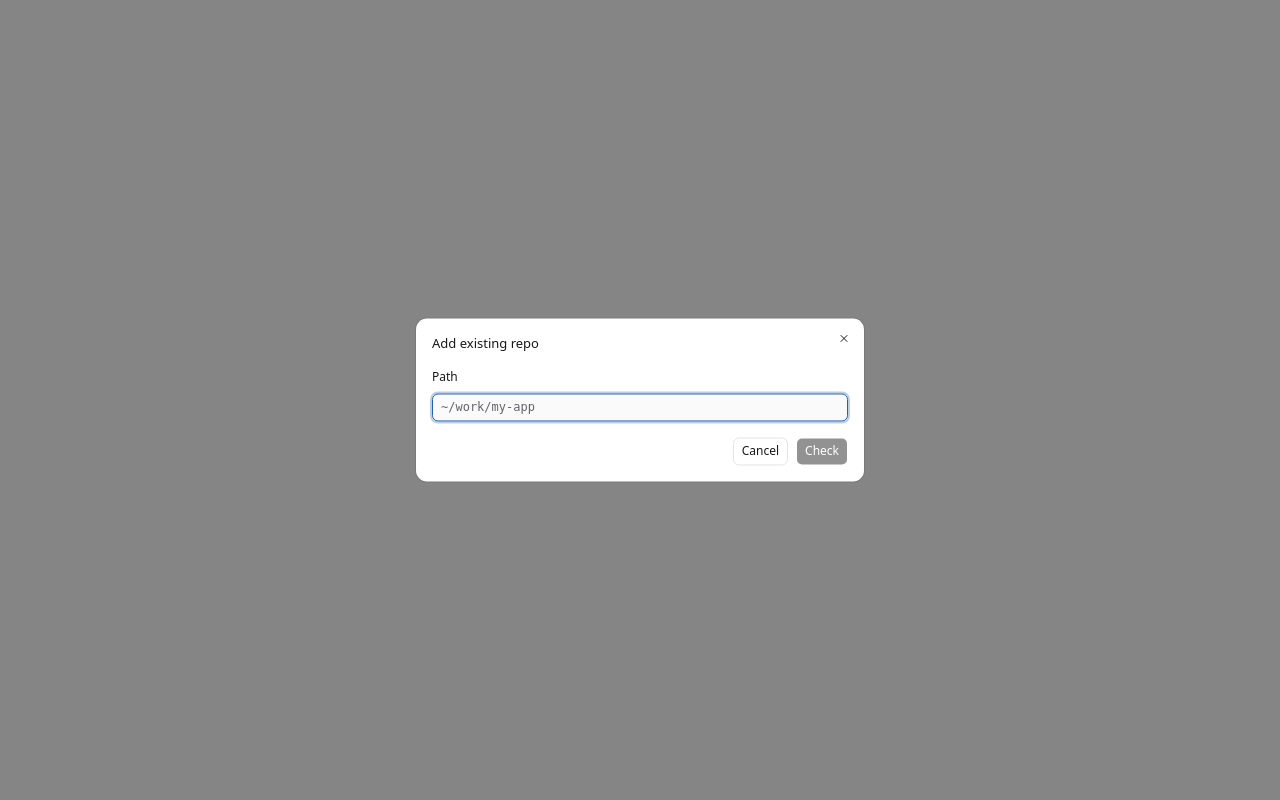
Test: AddExistingDialog › renders owner/name as plain text, not markup
Step 1. Type "~/x" into the field labelled "Path" → (640, 408), box [432,394,848,422]
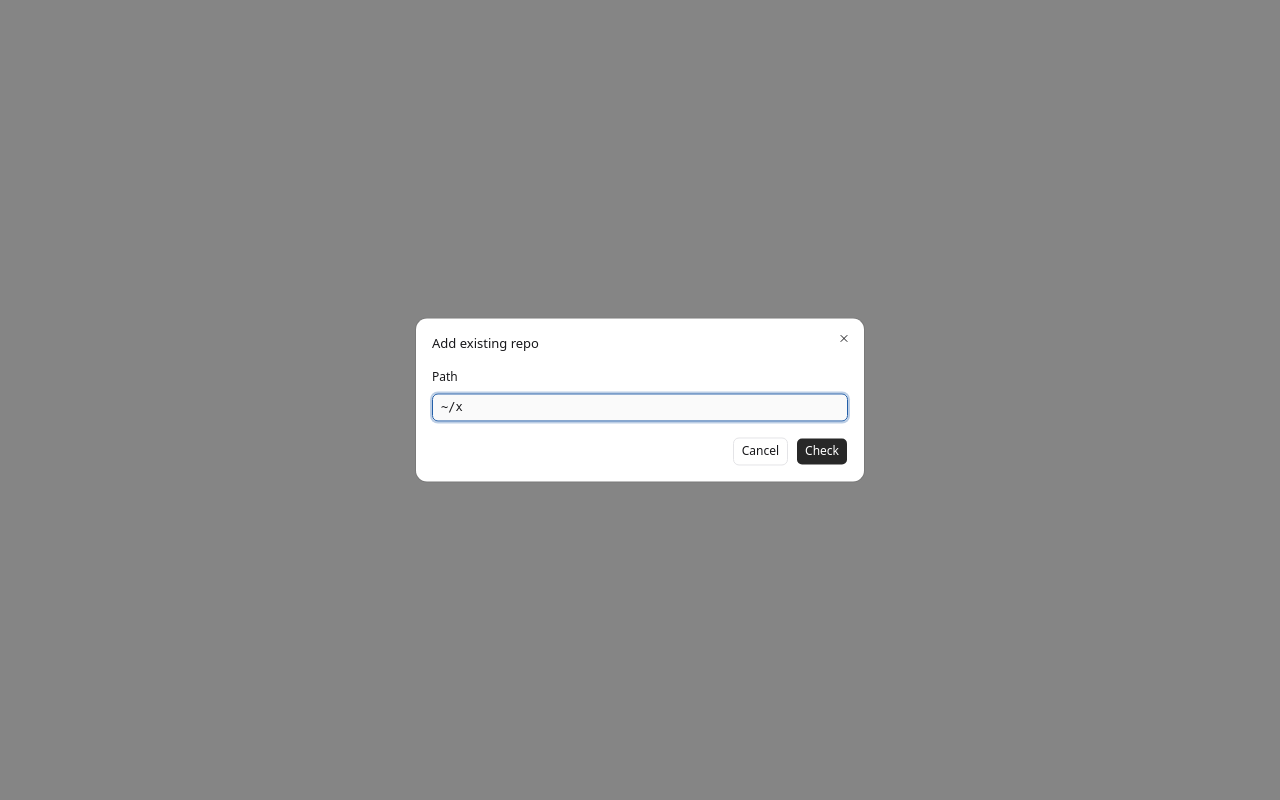
Step 2. Click the button "Check" → (822, 452), box [796,438,848,466]
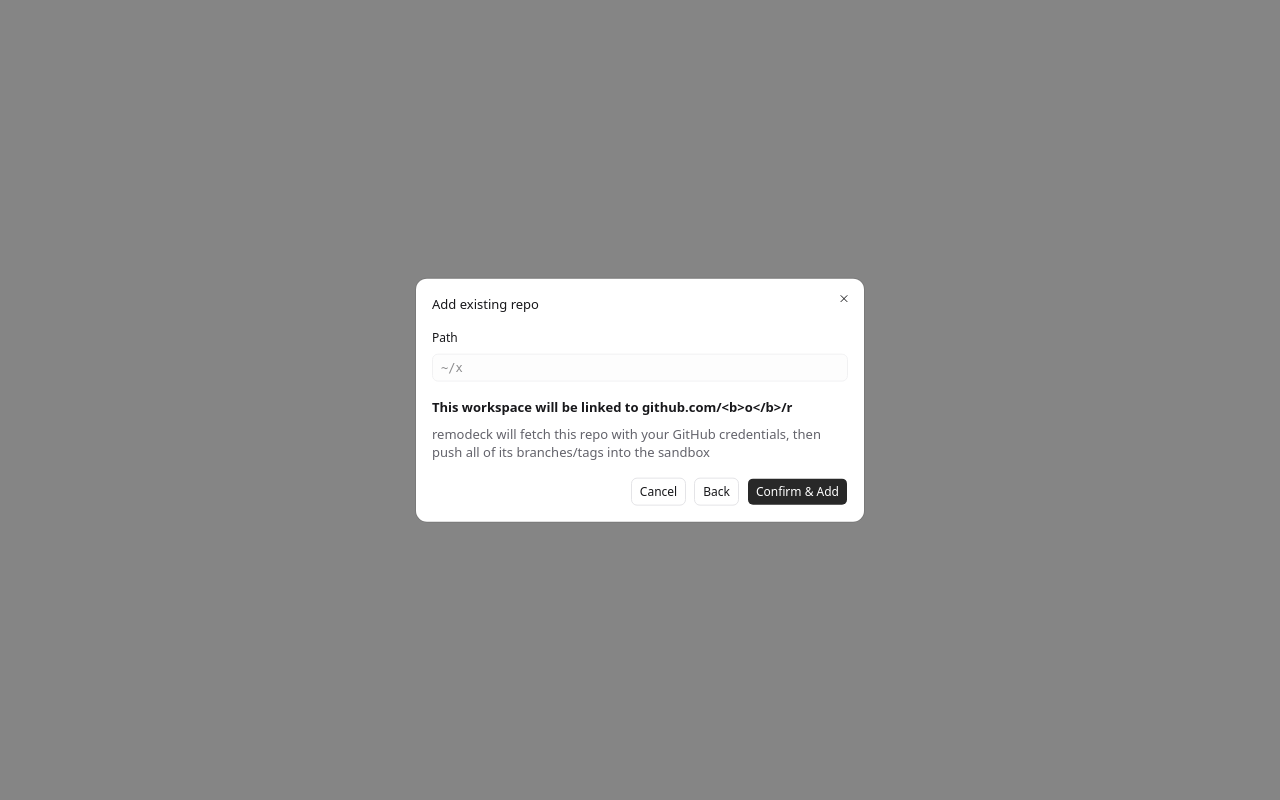
Expected: the button "Confirm & Add" is shown, [747,477,848,505]
Expected: the text "This workspace will be linked to github.com/<b>o</b>/r" is shown, [432,398,848,416]
